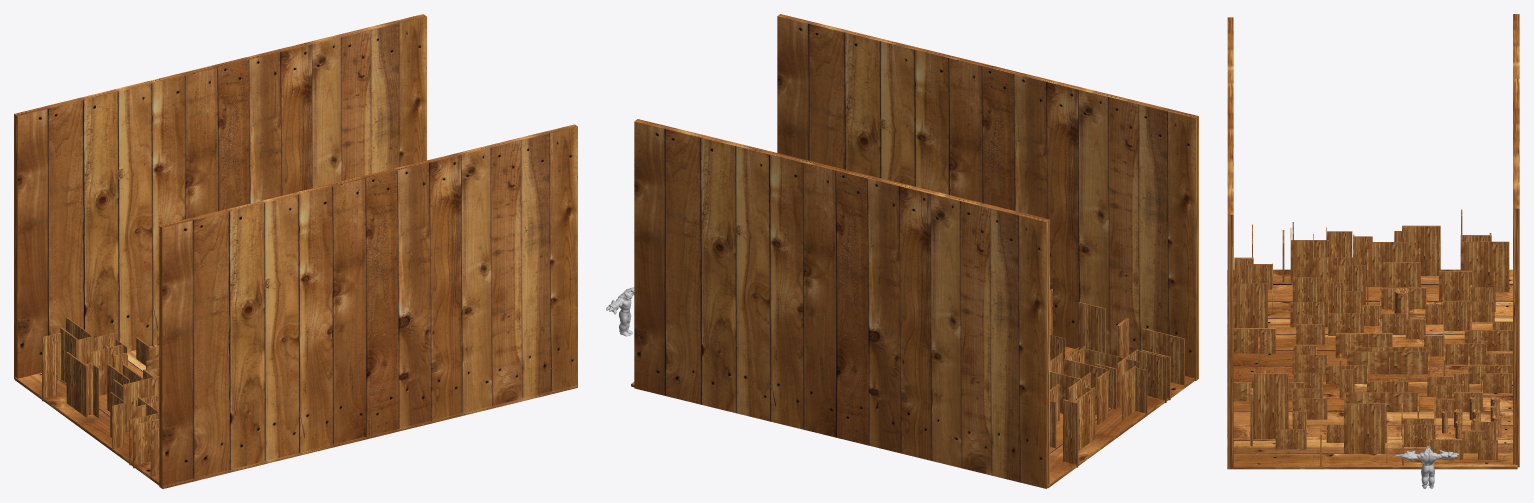
The model's file is stage_bannin.fbx.
The picture shows the model from 3 angles, left to right: view 1: azimuth 30°, elevation 25°; view 2: azimuth 150°, elevation 25°; view 3: azimuth 270°, elevation 25°; orthographic projection. The views are drawn at different scales.
Visible parts, largest first — view 1: Box004, Box002, Box001, Box010, Box005, Box014, Box022, Box034; view 2: Box002, Box004, Box001, Box023, Box028, Box024, Box005, Box010, Mutant, Box014, Box019, Box016; view 3: Box001, Box004, Box002, Box142, Box009, Box141, Box070, Box139, Box010, Box025, Box107, Box021 (+52 smaller).
Part boxes in pixels (left/top/right/bottom): Box004: left=159, top=124, right=577, bottom=488; Box002: left=14, top=14, right=426, bottom=378; Box001: left=14, top=345, right=577, bottom=488; Box010: left=66, top=352, right=87, bottom=417; Box005: left=42, top=333, right=57, bottom=401; Box014: left=123, top=376, right=159, bottom=432; Box022: left=133, top=419, right=159, bottom=468; Box034: left=87, top=344, right=123, bottom=395; Box002: left=634, top=119, right=1049, bottom=488; Box004: left=777, top=14, right=1198, bottom=380; Box001: left=631, top=346, right=1194, bottom=487; Box023: left=1142, top=328, right=1184, bottom=385; Box028: left=1078, top=302, right=1105, bottom=353; Box024: left=1137, top=350, right=1166, bottom=402; Box005: left=1063, top=399, right=1078, bottom=467; Box010: left=1074, top=387, right=1095, bottom=450; Mutant: left=606, top=287, right=634, bottom=336; Box014: left=1064, top=358, right=1108, bottom=414; Box019: left=1085, top=348, right=1140, bottom=399; Box016: left=1122, top=365, right=1135, bottom=420; Box001: left=1227, top=269, right=1517, bottom=469; Box004: left=1227, top=17, right=1233, bottom=469; Box002: left=1513, top=14, right=1519, bottom=467; Box142: left=1251, top=373, right=1288, bottom=439; Box009: left=1460, top=241, right=1509, bottom=292; Box141: left=1344, top=403, right=1385, bottom=453; Box070: left=1347, top=351, right=1429, bottom=374; Box139: left=1234, top=283, right=1267, bottom=328; Box010: left=1402, top=225, right=1440, bottom=275; Box025: left=1364, top=242, right=1407, bottom=286; Box107: left=1344, top=392, right=1419, bottom=411; Box021: left=1291, top=240, right=1329, bottom=282.
Bounding box in the file's own units: 2175 × 1160 × 1187.
